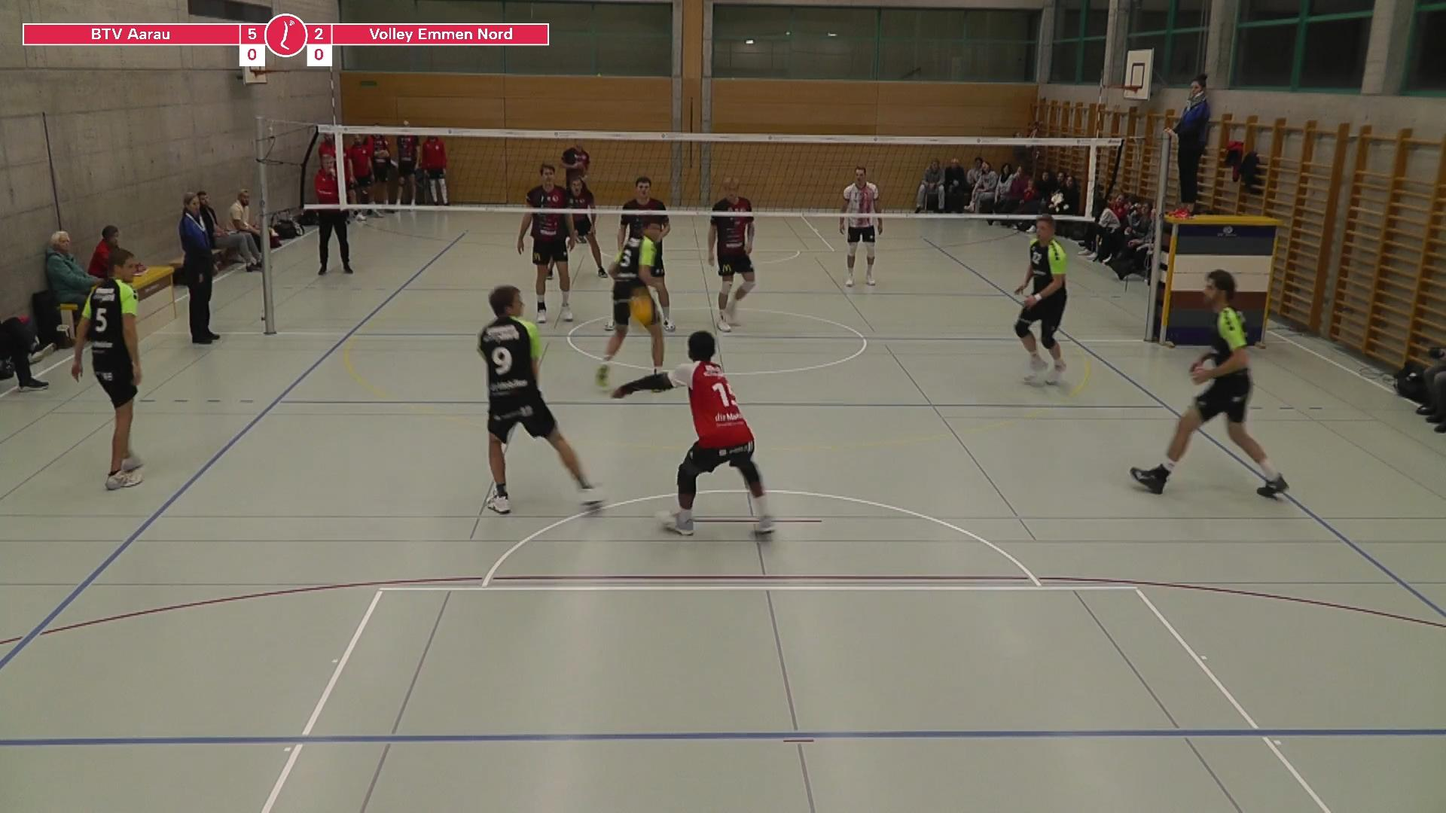ricezione: (609, 330, 785, 541)
